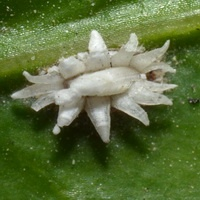insect: (11, 30, 175, 142)
